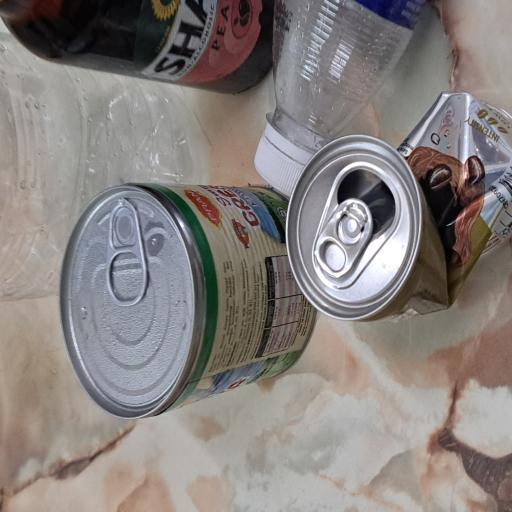can: (72, 80, 251, 423), (138, 379, 315, 512)
glass bottle: (314, 0, 384, 369)
plastic bottle: (160, 0, 354, 279), (276, 363, 384, 512)
plastic bottle cap: (238, 338, 284, 412)
pop tab: (171, 415, 237, 495), (153, 140, 236, 199)
